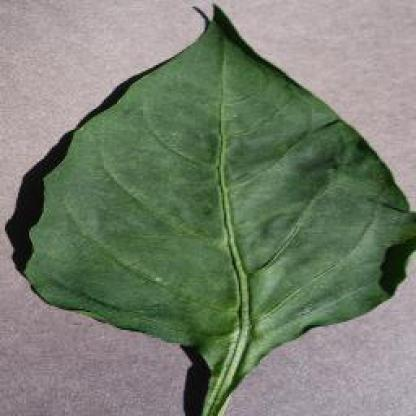good leaf: (21, 0, 415, 415)
